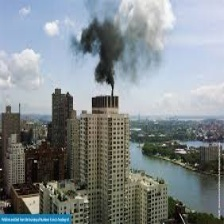smoke: (79, 8, 136, 93)
